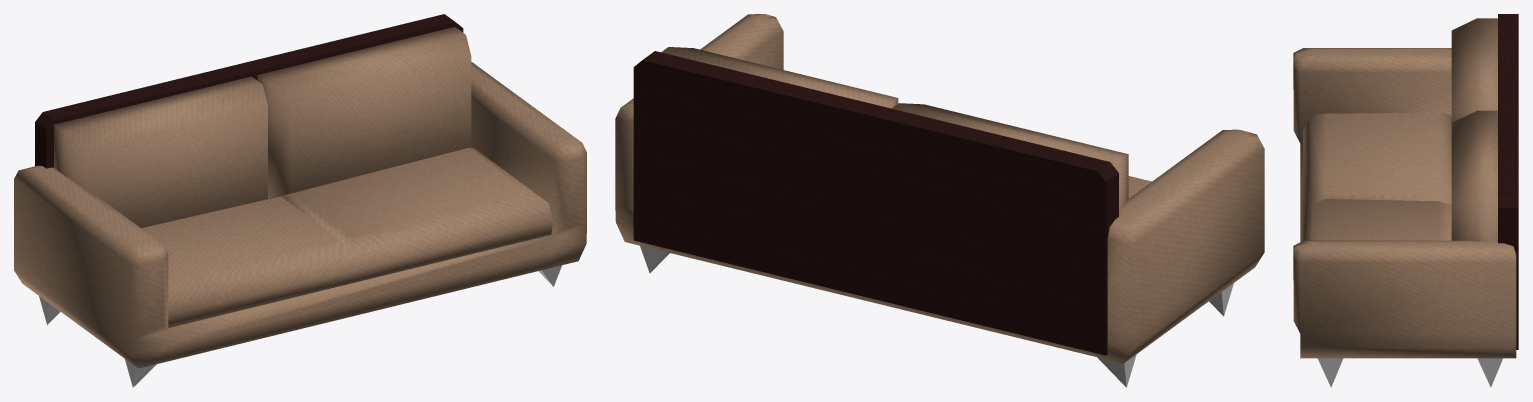
File: Loveseat_07.FBX
3 views of the same model, side by side, from view 1: azimuth 30°, elevation 25°; view 2: azimuth 150°, elevation 25°; view 3: azimuth 270°, elevation 25° (orthographic). The views are drawn at different scales.
Parts seen in each view (by area): view 1: Loveseat; view 2: Loveseat; view 3: Loveseat.
Part boxes in pixels (x1,y1,x2,y2): Loveseat: (14, 14, 586, 387); Loveseat: (615, 14, 1264, 387); Loveseat: (1293, 14, 1518, 387).
Size of the model in its own units: 372 by 157 by 171.
